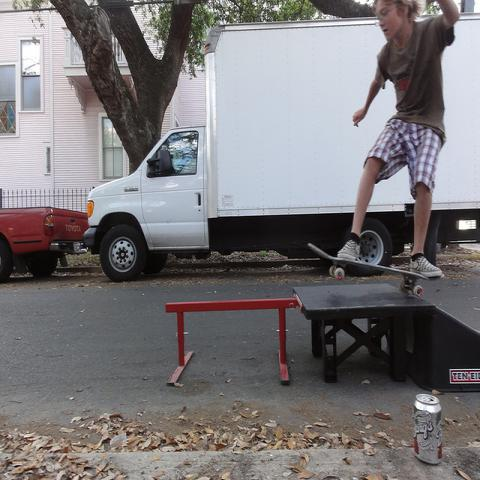truck: (80, 11, 480, 284), (1, 207, 90, 283)
